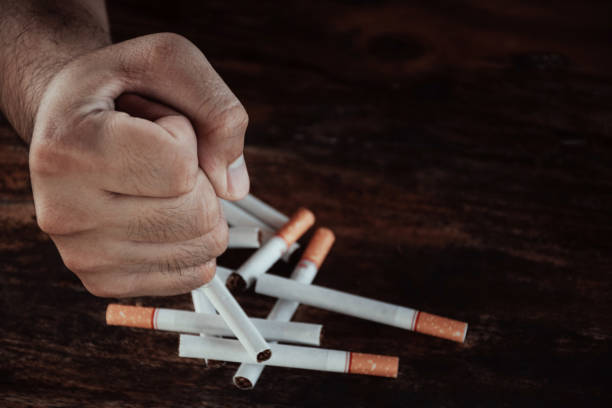cigarette: (231, 225, 337, 390), (255, 273, 470, 342), (103, 302, 328, 349), (177, 333, 399, 379), (200, 273, 274, 365), (235, 207, 316, 289), (216, 196, 280, 246), (188, 288, 228, 368), (235, 191, 290, 231), (228, 226, 263, 248), (214, 263, 236, 291)
